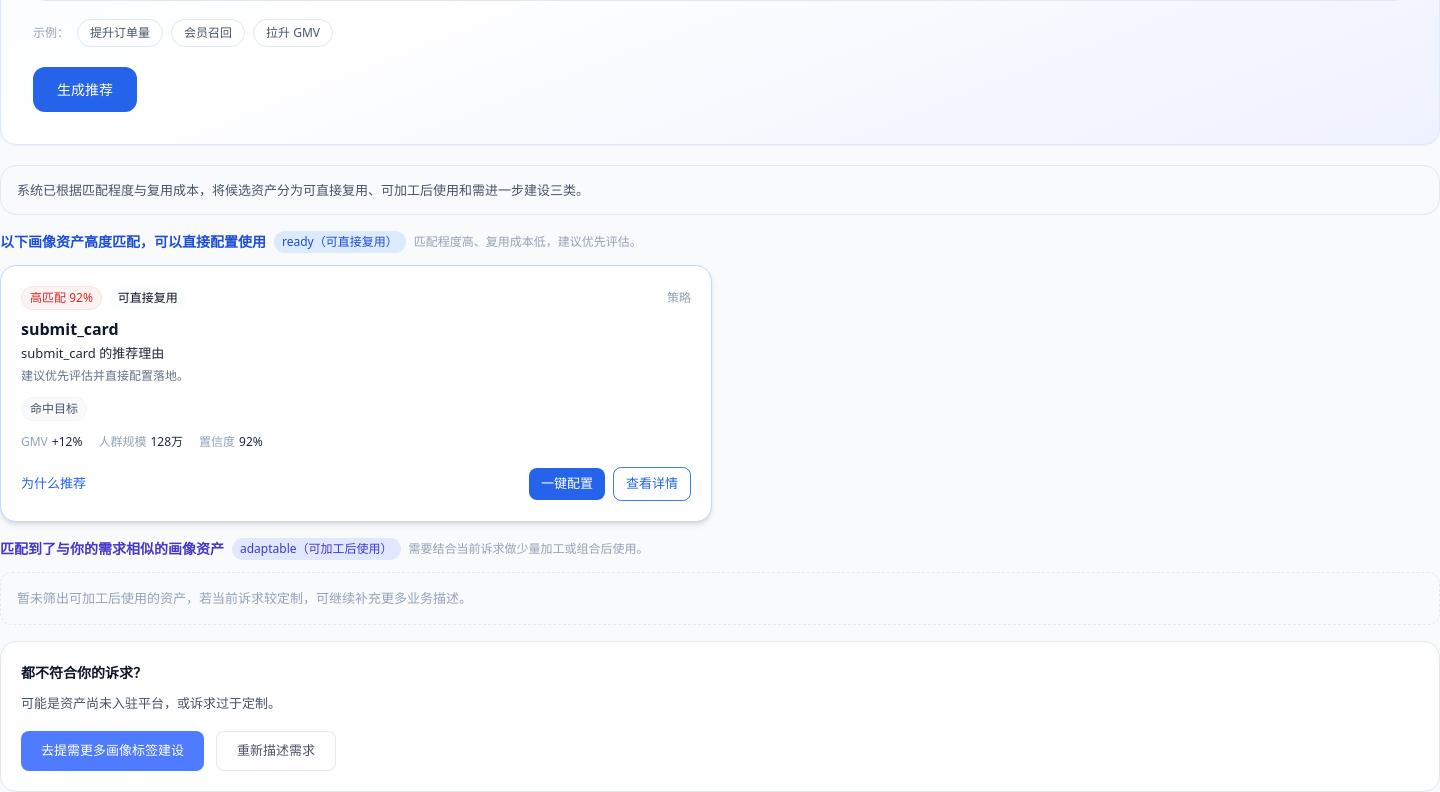
Scenario: RecommendationHomePanel › 从 ready 详情提交配置后保留详情并更新为已提交状态
(page scrolled)
Click the button "查看详情" at (652, 484), box [613,467,691,500]
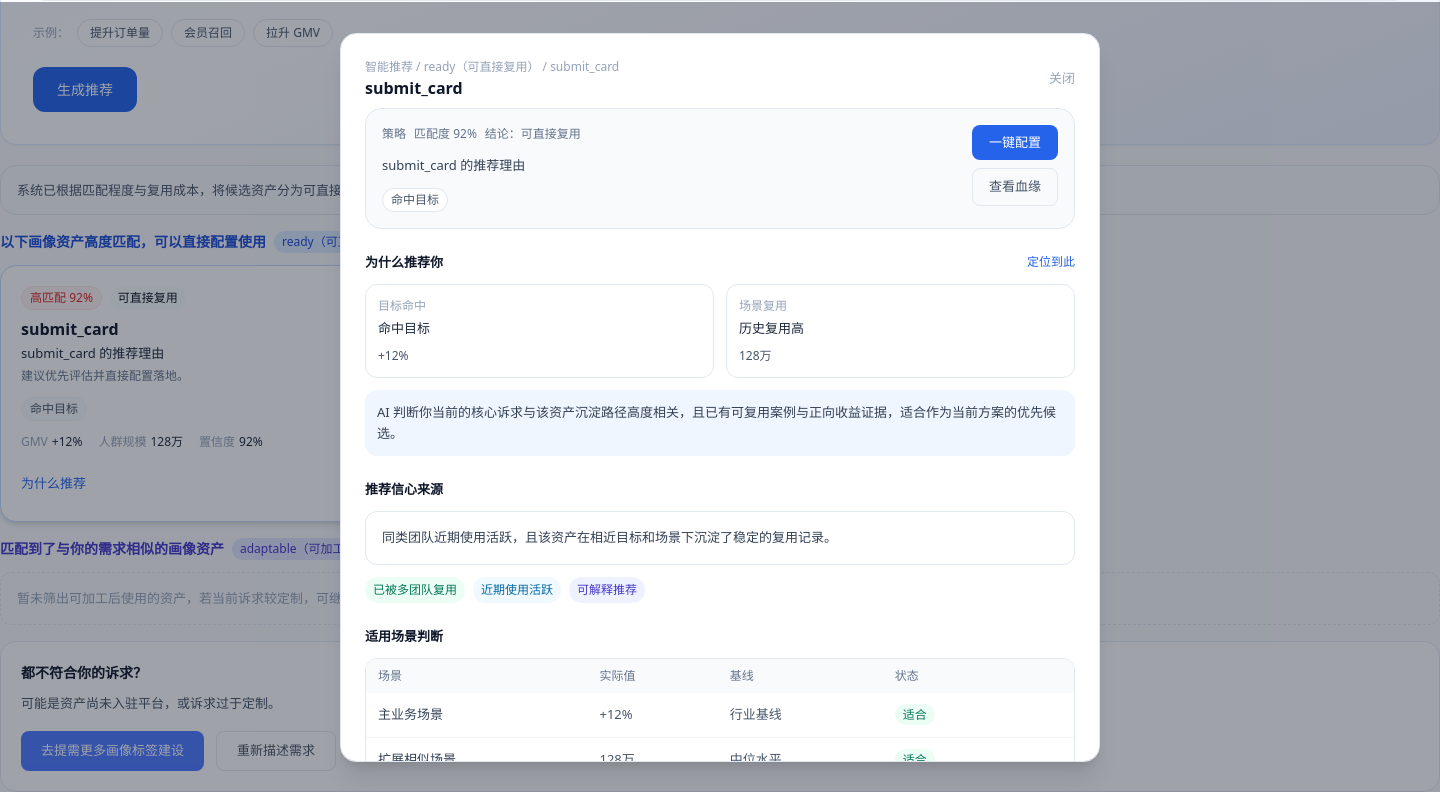
Click the button "一键配置" at (1015, 142), box [972,124,1058,160]
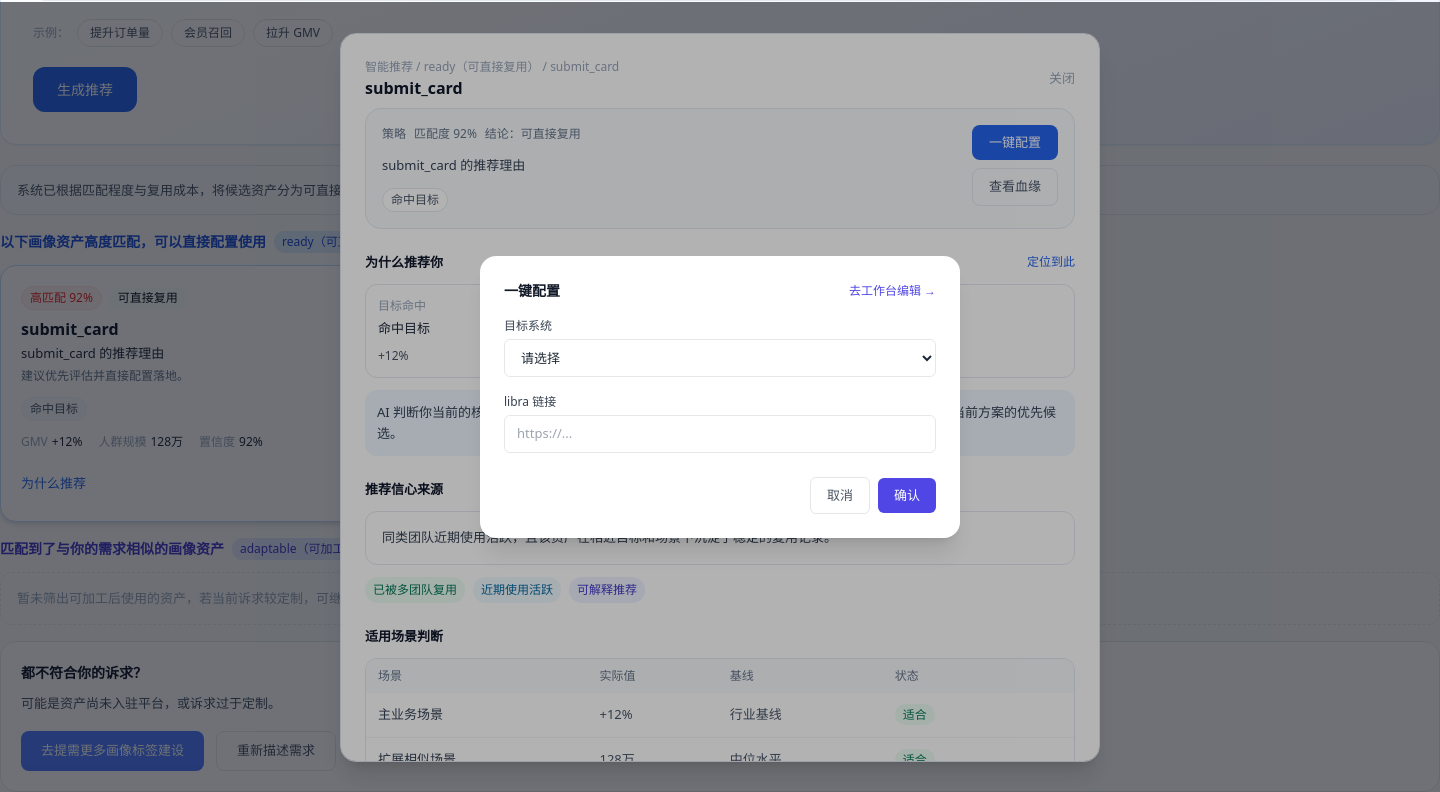
Select "北冰洋" in the dropdown at (720, 358), box [504,339,936,377]
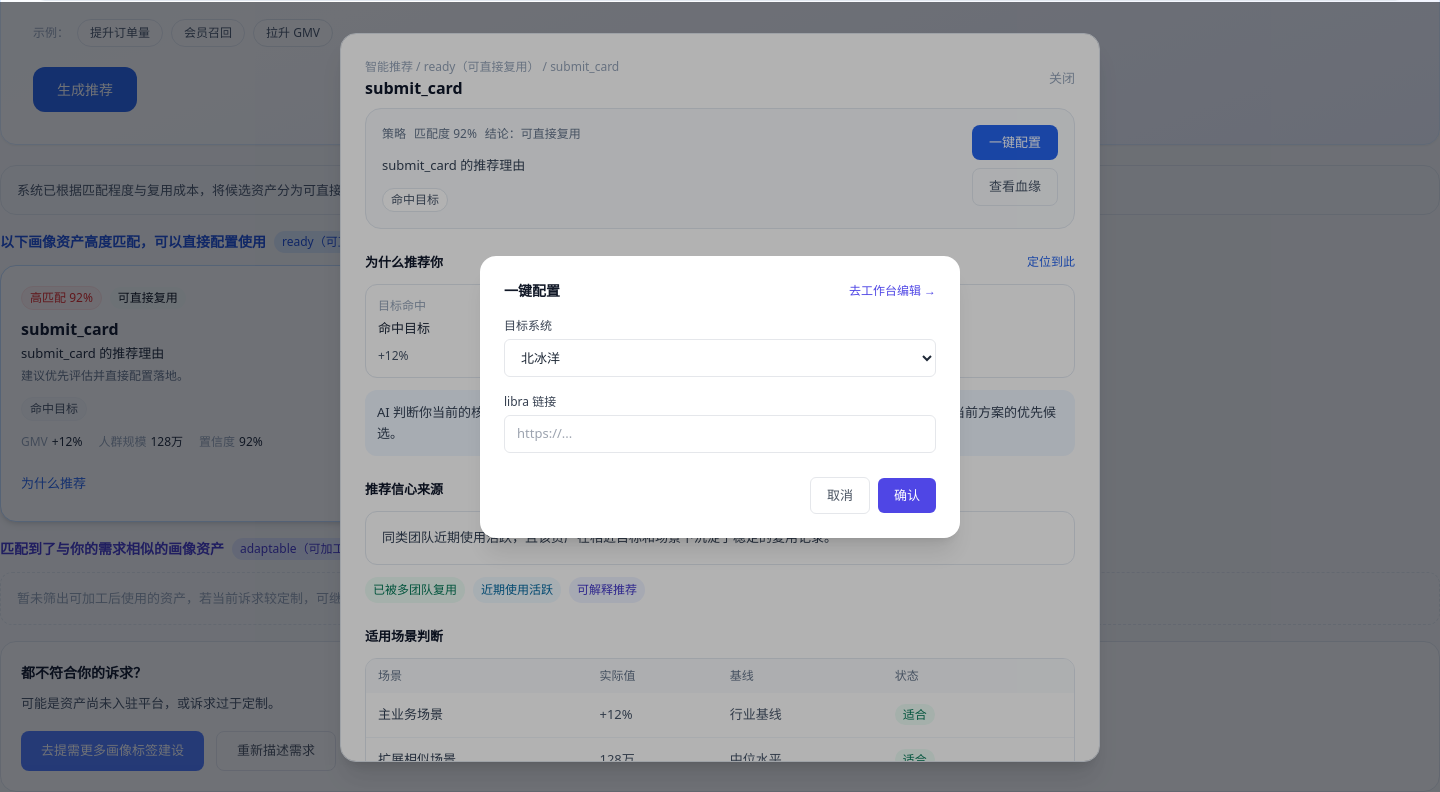
Type "https://example.com/submit" into the field with placeholder "https://..." at (720, 434), box [504,415,936,452]
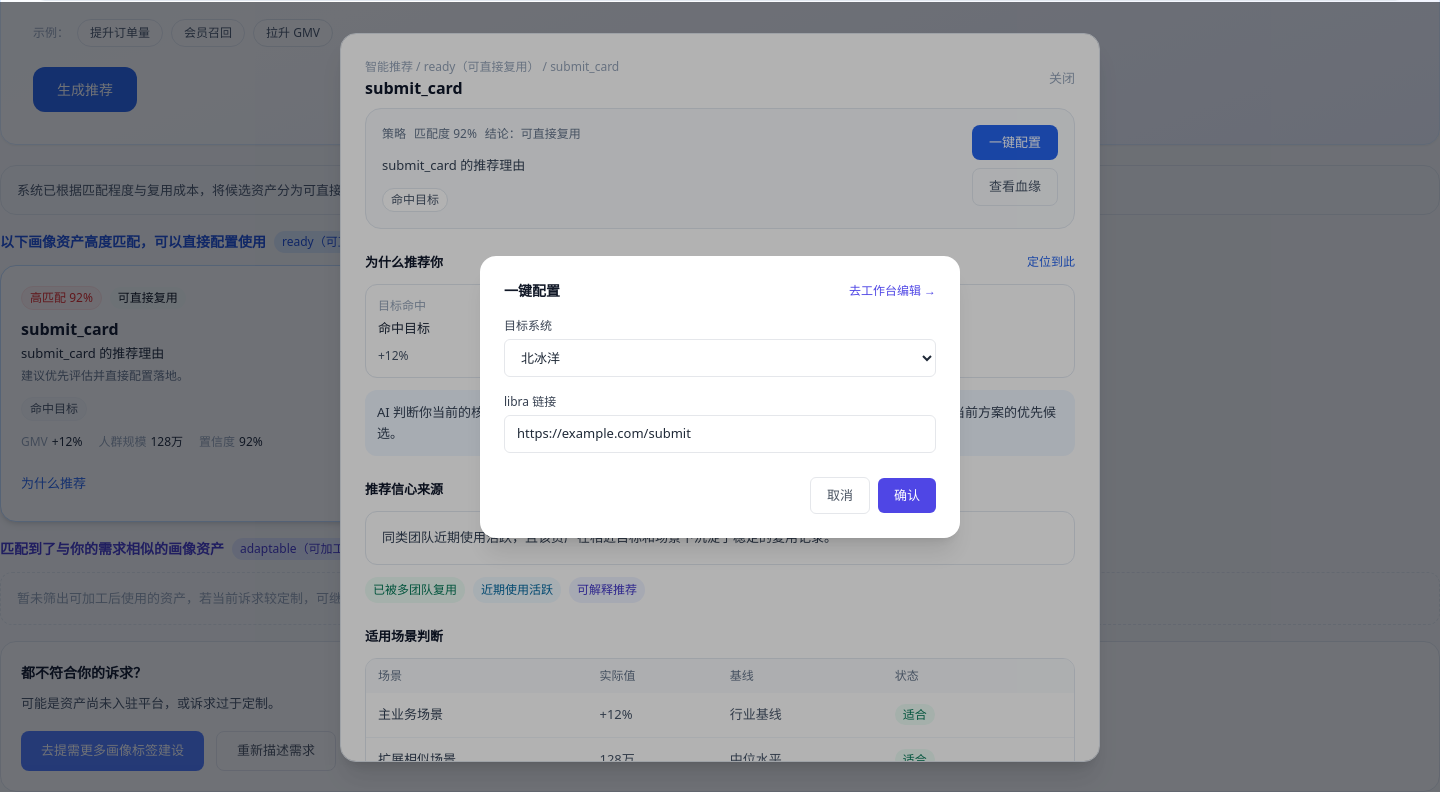
Click the button "确认" at (907, 495), box [878,478,936,513]
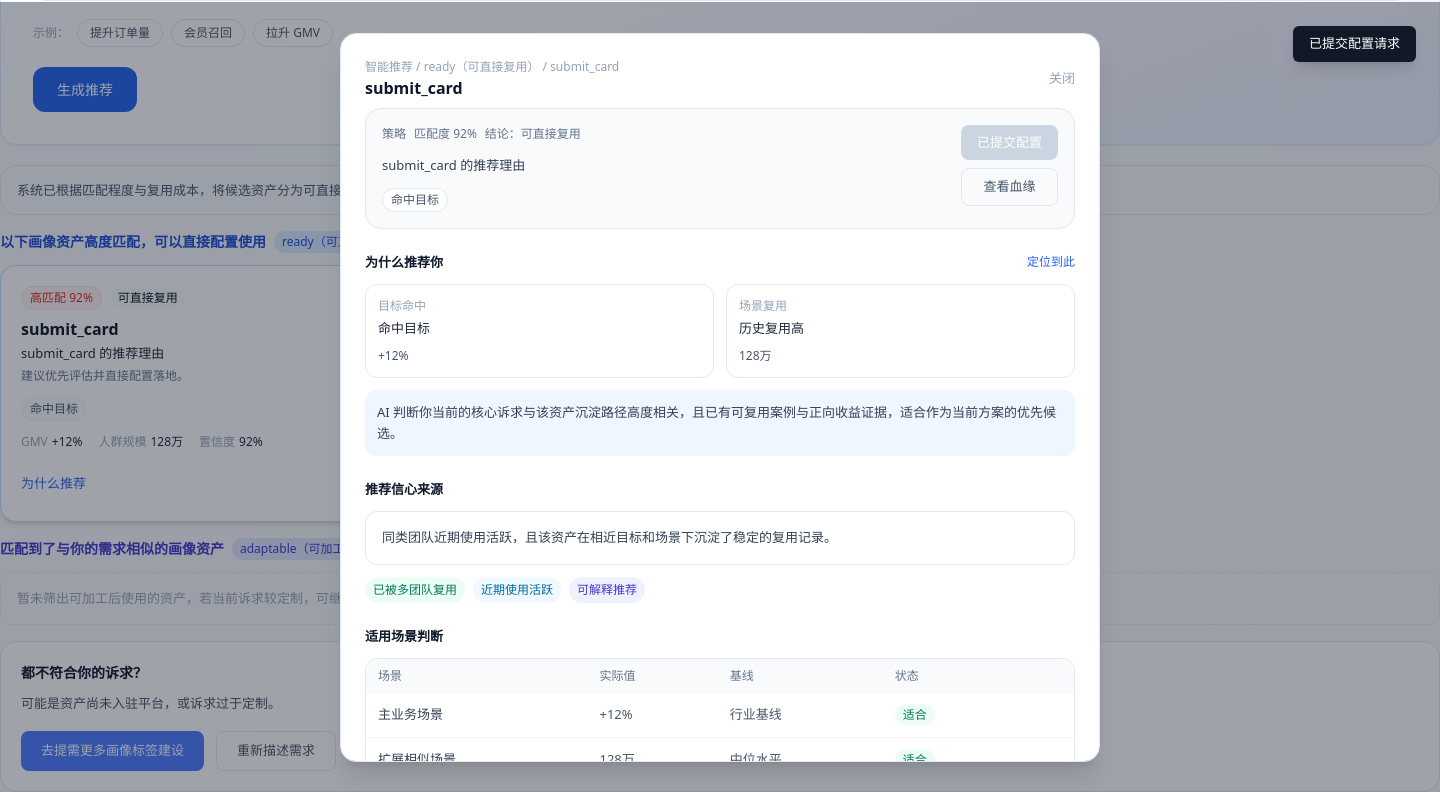
Check: the dialog named "submit_card详情" is shown, box [340,32,1100,762]
Check: the button "已提交配置" is shown, box [961,124,1058,160]
Check: the text "已提交配置请求" is shown, box [1293,26,1416,62]
